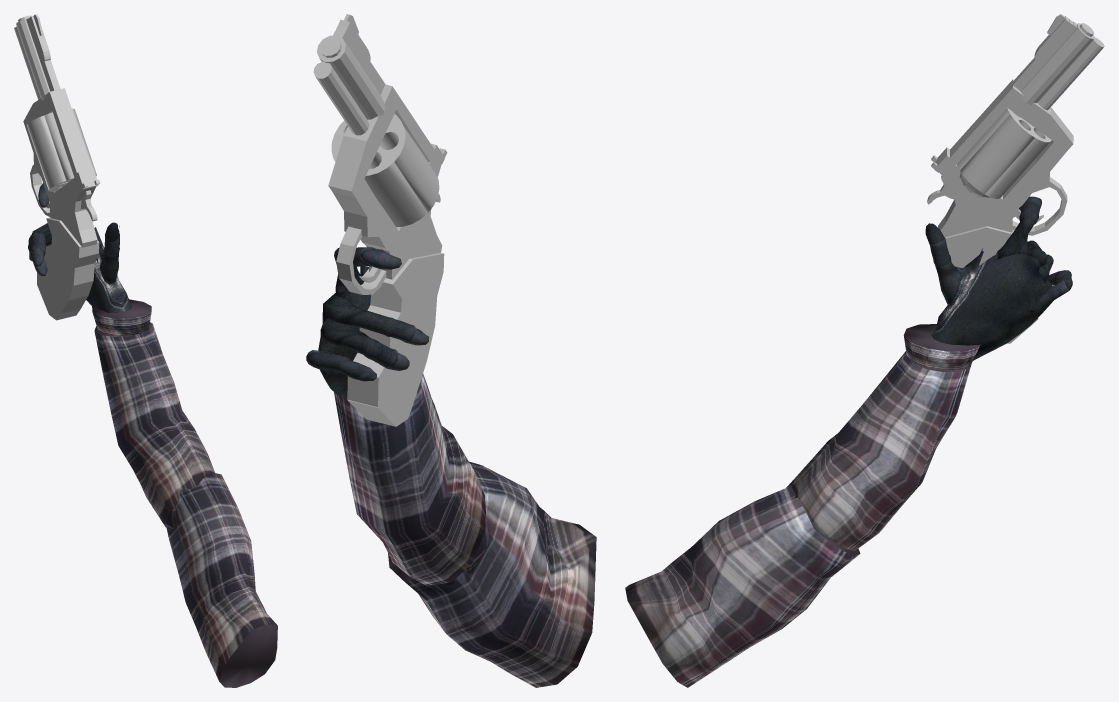
File: S&W500_vfire.fbx
3 views of the same model, side by side, from view 1: azimuth 30°, elevation 25°; view 2: azimuth 150°, elevation 25°; view 3: azimuth 270°, elevation 25° (orthographic). The views are drawn at different scales.
Parts seen in each view (by area): view 1: rupperarm, rforearm, 500Body, 500Grip, 500Cylinder, rhand, 500Barrel, 500FrontSight, rthumbback; view 2: rupperarm, rforearm, 500Grip, 500Body, 500Cylinder, 500Barrel, 500TriggerGuard, rhand, rmfingerback, 500FrontSight, rifingerback, rifingermiddle (+4 smaller); view 3: rupperarm, rforearm, 500Body, rhand, 500Cylinder, 500Barrel, 500Grip, 500FrontSight, rthumbback, rpfingerback.
Boxes of the visible parts, left/top/right/bottom form: rupperarm: left=166, top=473, right=277, bottom=687; rforearm: left=92, top=299, right=214, bottom=527; 500Body: left=23, top=88, right=97, bottom=247; 500Grip: left=37, top=217, right=99, bottom=320; 500Cylinder: left=27, top=108, right=96, bottom=191; rhand: left=86, top=258, right=131, bottom=312; 500Barrel: left=14, top=15, right=50, bottom=100; 500FrontSight: left=26, top=14, right=60, bottom=91; rthumbback: left=94, top=227, right=119, bottom=284; rupperarm: left=388, top=461, right=596, bottom=687; rforearm: left=334, top=373, right=485, bottom=585; 500Grip: left=347, top=253, right=444, bottom=426; 500Body: left=328, top=84, right=442, bottom=279; 500Cylinder: left=331, top=114, right=439, bottom=227; 500Barrel: left=313, top=35, right=385, bottom=135; 500TriggerGuard: left=336, top=226, right=386, bottom=294; rhand: left=318, top=292, right=370, bottom=398; rmfingerback: left=328, top=295, right=391, bottom=334; 500FrontSight: left=333, top=14, right=385, bottom=94; rifingerback: left=320, top=318, right=378, bottom=357; rifingermiddle: left=361, top=339, right=397, bottom=367; rupperarm: left=625, top=486, right=860, bottom=687; rforearm: left=786, top=324, right=979, bottom=550; 500Body: left=938, top=79, right=1073, bottom=237; rhand: left=931, top=253, right=1053, bottom=360; 500Cylinder: left=957, top=108, right=1051, bottom=198; 500Barrel: left=1020, top=23, right=1104, bottom=110; 500Grip: left=945, top=226, right=1038, bottom=343; 500FrontSight: left=1012, top=14, right=1077, bottom=90; rthumbback: left=935, top=248, right=983, bottom=306; rpfingerback: left=996, top=215, right=1035, bottom=259.
Bounding box in the file's own units: 5.8 × 30.33 × 20.34.
